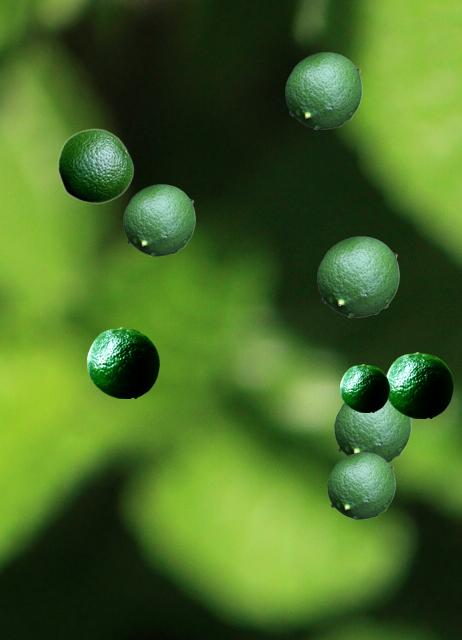calamansi: (317, 236, 398, 316), (285, 52, 361, 128), (57, 128, 133, 203), (123, 184, 194, 255), (87, 327, 158, 397), (334, 402, 410, 463), (327, 452, 394, 518), (386, 352, 452, 417), (340, 364, 388, 411)
